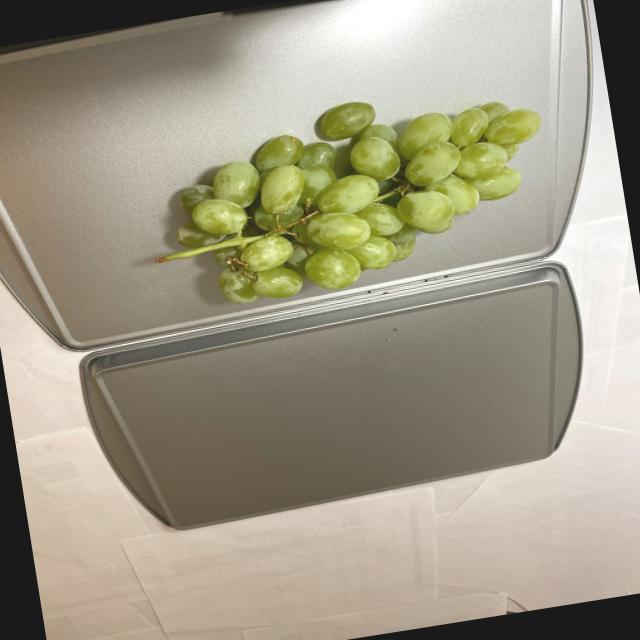grapes: (126, 73, 562, 320)
